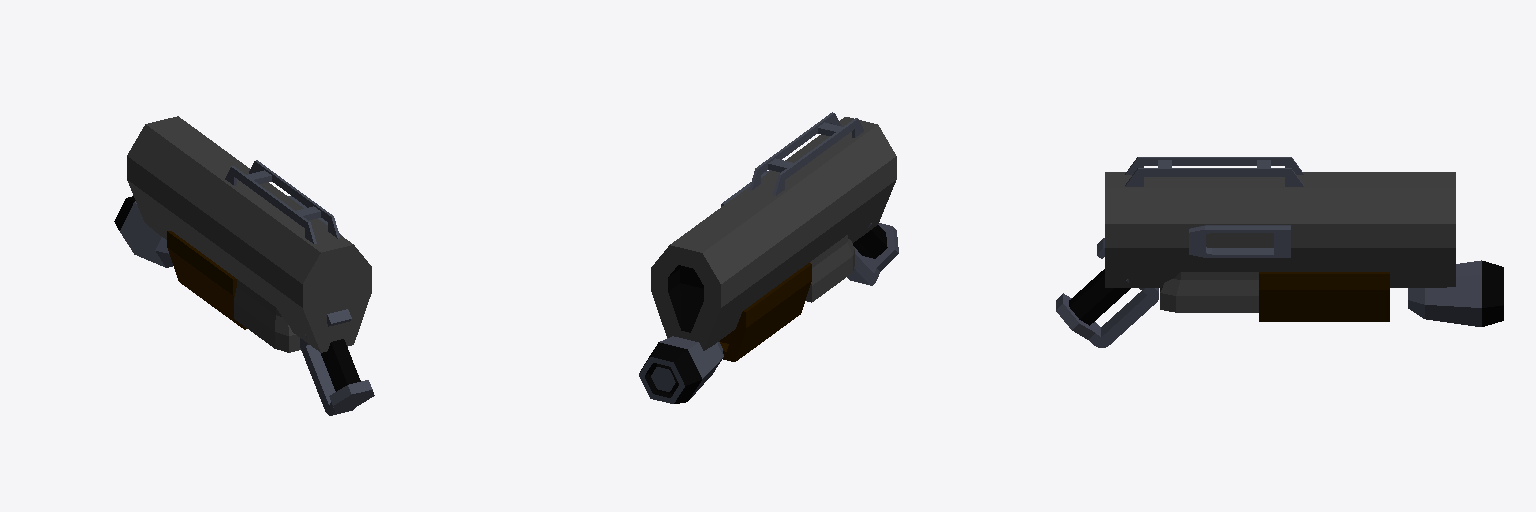
The model's file is body1.model.obj.
3 renders of one model, left to right at view 1: azimuth 30°, elevation 25°; view 2: azimuth 150°, elevation 25°; view 3: azimuth 270°, elevation 25°, orthographic.
Bounding box in the file's own units: 0.4316 × 0.9044 × 2.04.